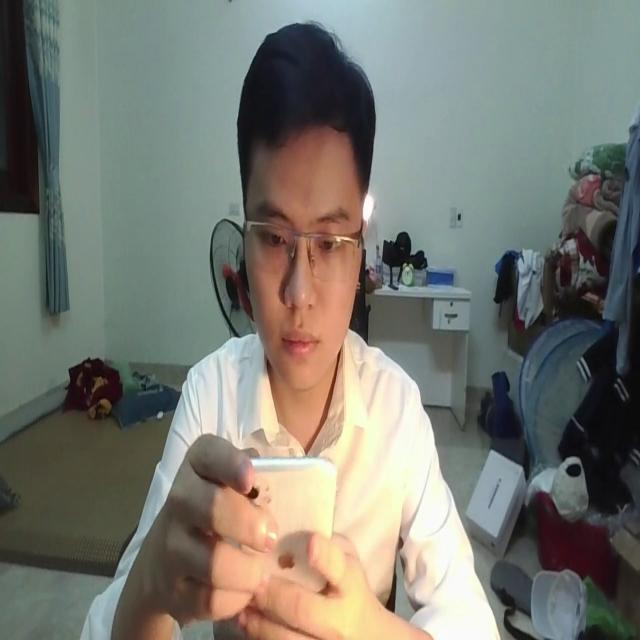phone: (232, 438, 336, 608)
student: (93, 15, 507, 640)
